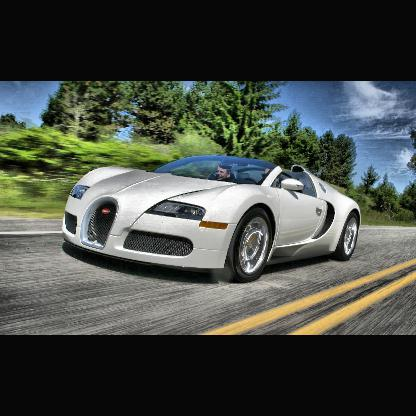Bugatti Veyron 16-4 Convertible 2009: (62, 154, 362, 283)
